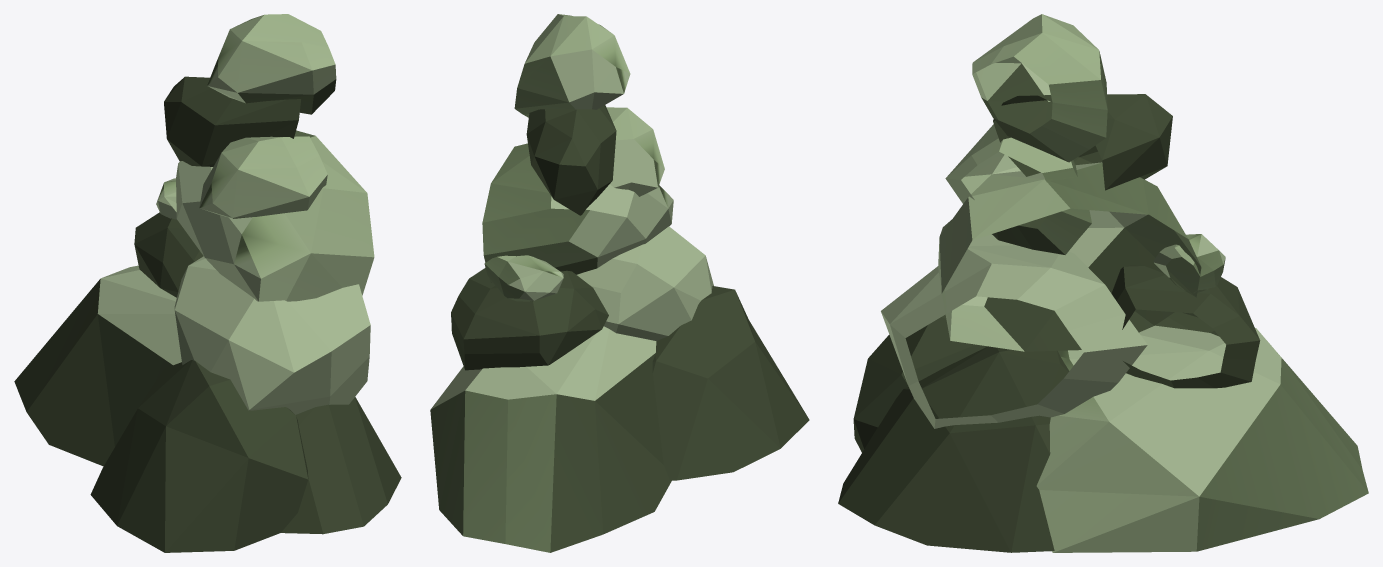
The model's file is EA_Swamp_Stones_Mound_01a.glb.
3 views of the same model, side by side, from view 1: azimuth 30°, elevation 25°; view 2: azimuth 150°, elevation 25°; view 3: azimuth 270°, elevation 25° (orthographic). The views are drawn at different scales.
Parts seen in each view (by area): view 1: EA_Swamp_Stones_Mound_01a; view 2: EA_Swamp_Stones_Mound_01a; view 3: EA_Swamp_Stones_Mound_01a.
Part boxes in pixels (bbox=[...]): EA_Swamp_Stones_Mound_01a: bbox=[14, 14, 401, 552]; EA_Swamp_Stones_Mound_01a: bbox=[430, 14, 809, 552]; EA_Swamp_Stones_Mound_01a: bbox=[838, 14, 1368, 552].
Size of the model in its own units: 2.5 by 3.86 by 3.8.
1 material, 1 textured.
